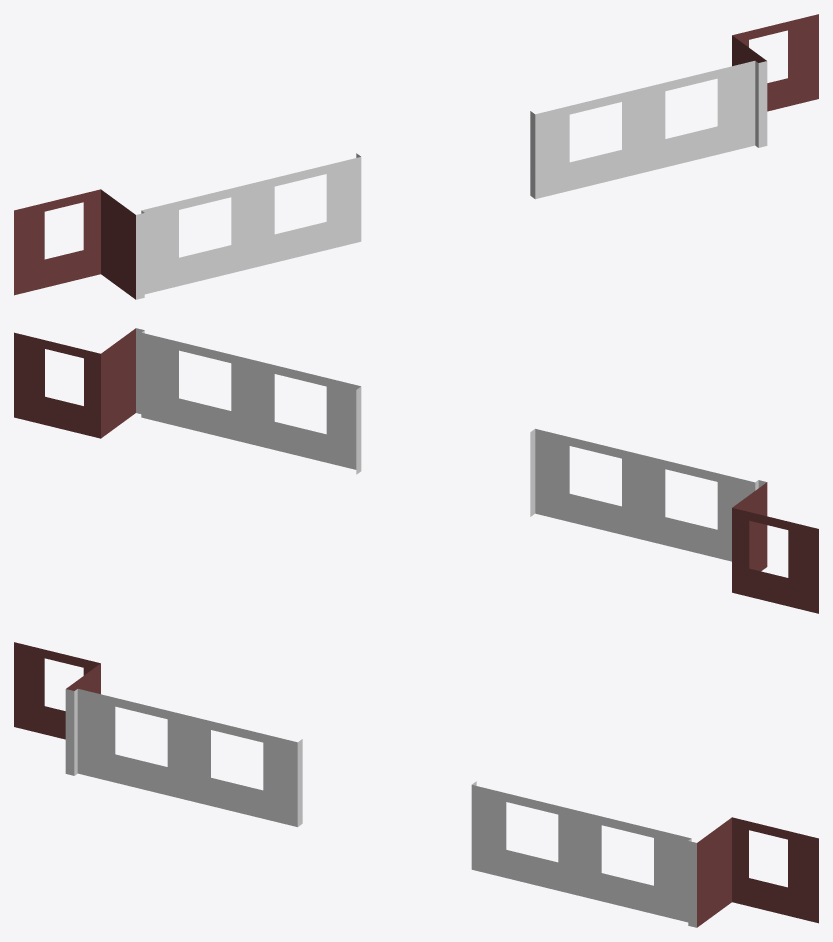
Rendered from p3-floor-first-front.fbx.
The picture shows the model from 3 angles, top to bottom: view 1: azimuth 30°, elevation 25°; view 2: azimuth 150°, elevation 25°; view 3: azimuth 330°, elevation 25°; orthographic projection.
Visible parts, largest first — view 1: floor-first-front.001; view 2: floor-first-front.001; view 3: floor-first-front.001.
Part boxes in pixels (x1,y1,x2,y2): floor-first-front.001: (14, 14, 818, 299); floor-first-front.001: (14, 328, 818, 613); floor-first-front.001: (14, 642, 818, 927).
Bounding box in the file's own units: 2779 × 280 × 210.
